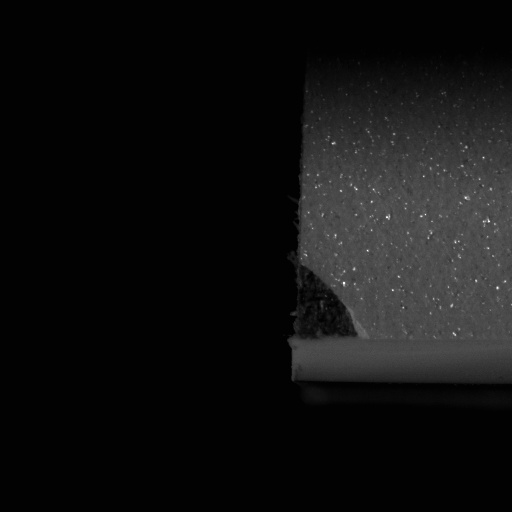bengque: (289, 262, 372, 346)
